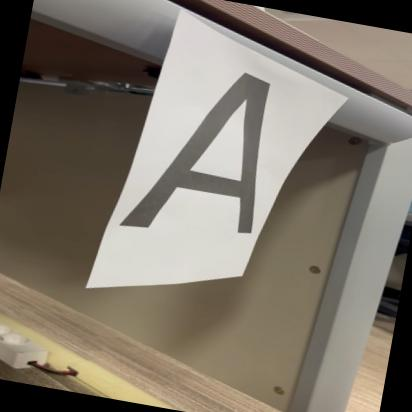seat: (110, 48, 296, 260)
